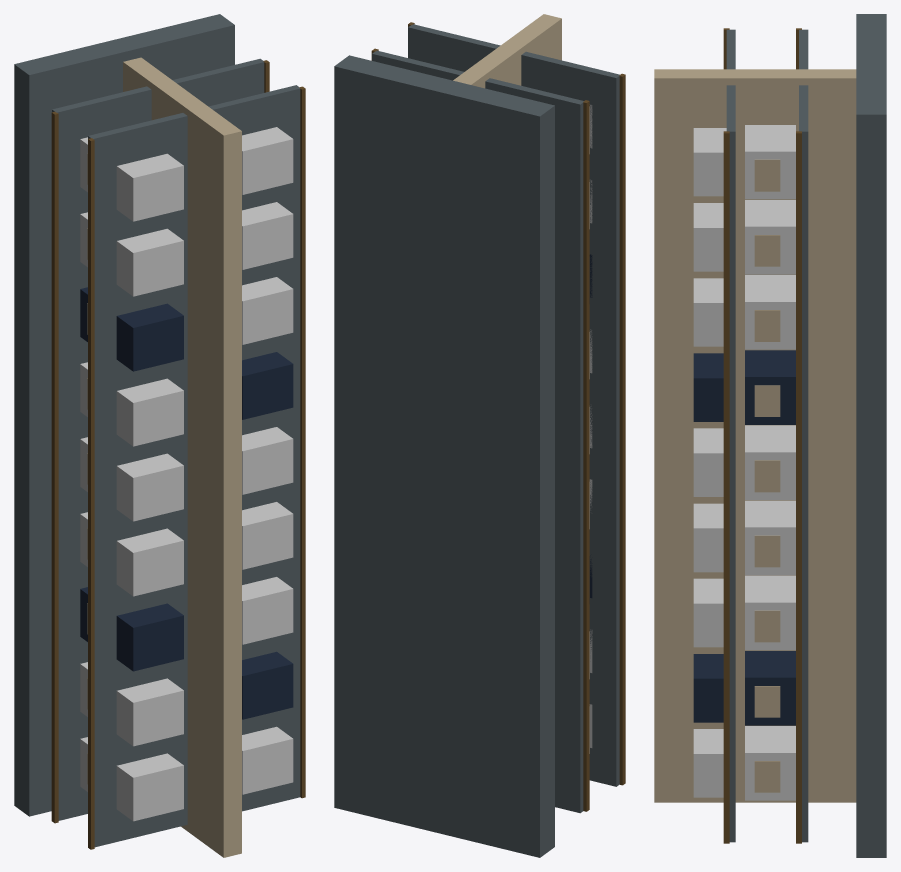
Rendered from SM_BSW_Department_ToyGondola_B.obj.
3 views of the same model, side by side, from view 1: azimuth 30°, elevation 25°; view 2: azimuth 150°, elevation 25°; view 3: azimuth 270°, elevation 25° (orthographic).
Parts seen in each view (by area): view 1: SM_BSW_Department_ToyGondola_B; view 2: SM_BSW_Department_ToyGondola_B; view 3: SM_BSW_Department_ToyGondola_B.
Boxes of the visible parts, x1,y1,x2,y2 form: SM_BSW_Department_ToyGondola_B: (14, 14, 305, 857); SM_BSW_Department_ToyGondola_B: (334, 14, 625, 857); SM_BSW_Department_ToyGondola_B: (654, 14, 886, 857).
Bounding box in the file's own units: 165 × 544 × 154.
